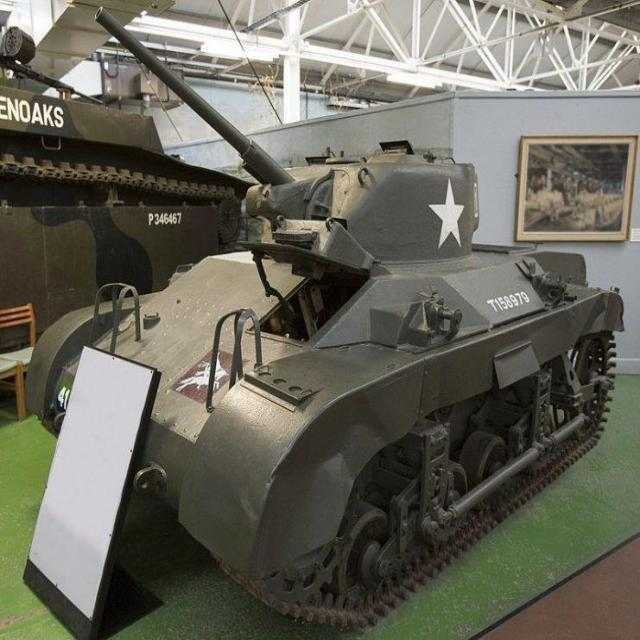Tanks: (41, 63, 627, 617)
